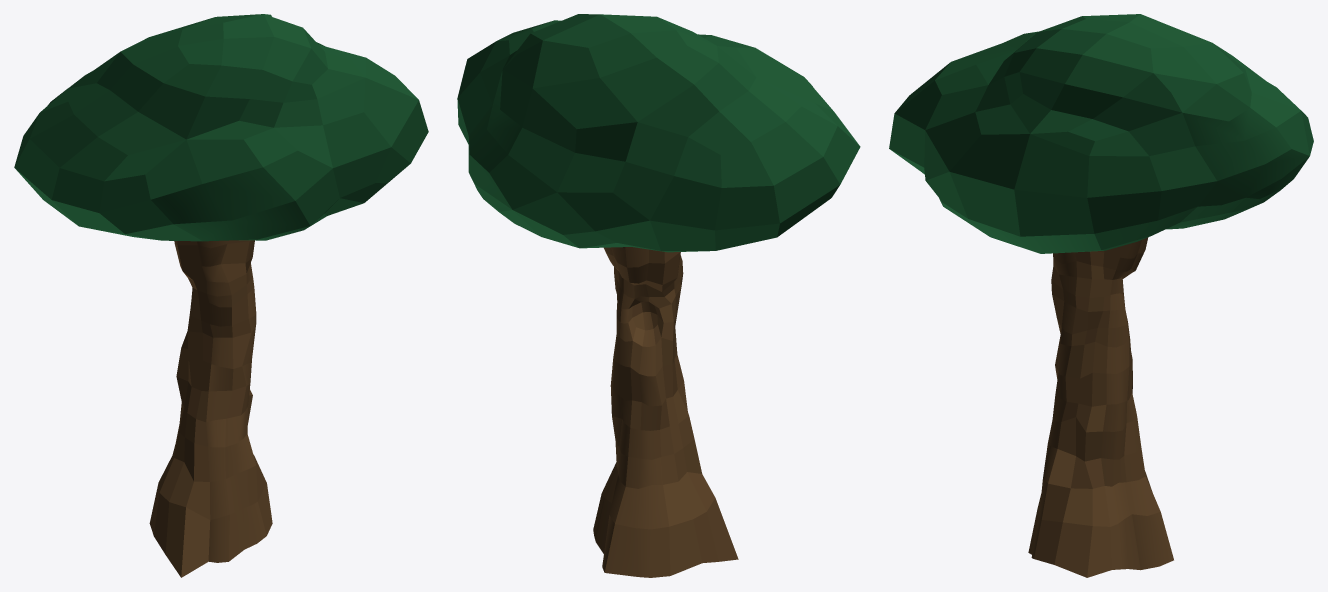
File: arv2.fbx
The picture shows the model from 3 angles, left to right: view 1: azimuth 30°, elevation 25°; view 2: azimuth 150°, elevation 25°; view 3: azimuth 270°, elevation 25°; orthographic projection. The views are drawn at different scales.
Parts seen in each view (by area): view 1: arvore2:arvore0; view 2: arvore2:arvore0; view 3: arvore2:arvore0.
Part boxes in pixels (x1=…): arvore2:arvore0: x1=14, y1=14, x2=428, y2=577; arvore2:arvore0: x1=457, y1=14, x2=860, y2=577; arvore2:arvore0: x1=889, y1=14, x2=1313, y2=577.
Bounding box in the file's own units: 52.11 × 71.08 × 50.05.
